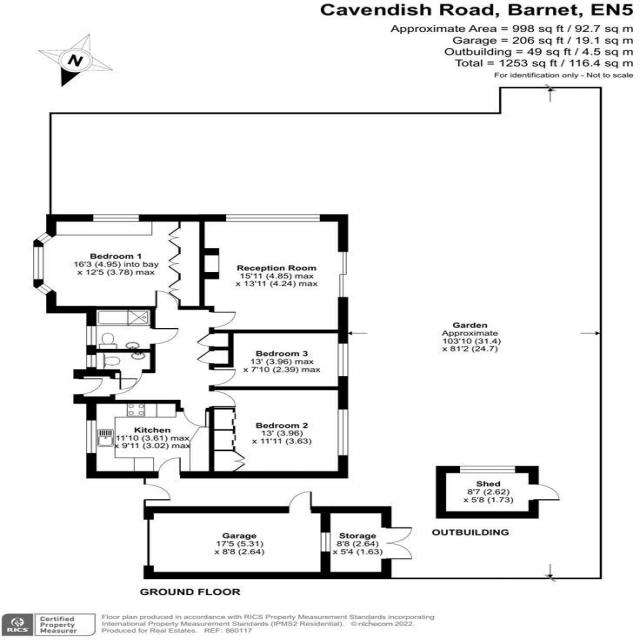DOOR: (157, 457, 181, 479), (208, 390, 237, 408), (208, 311, 237, 329), (154, 290, 179, 310), (183, 408, 207, 428), (208, 369, 236, 386)
ROOM: (199, 214, 349, 333), (33, 214, 205, 313), (208, 386, 349, 479), (86, 400, 215, 479), (209, 329, 349, 390)
WINDOW: (225, 214, 322, 222), (337, 408, 349, 457), (336, 342, 349, 378), (32, 246, 44, 280), (92, 214, 140, 222), (35, 231, 54, 245), (36, 283, 53, 296)
